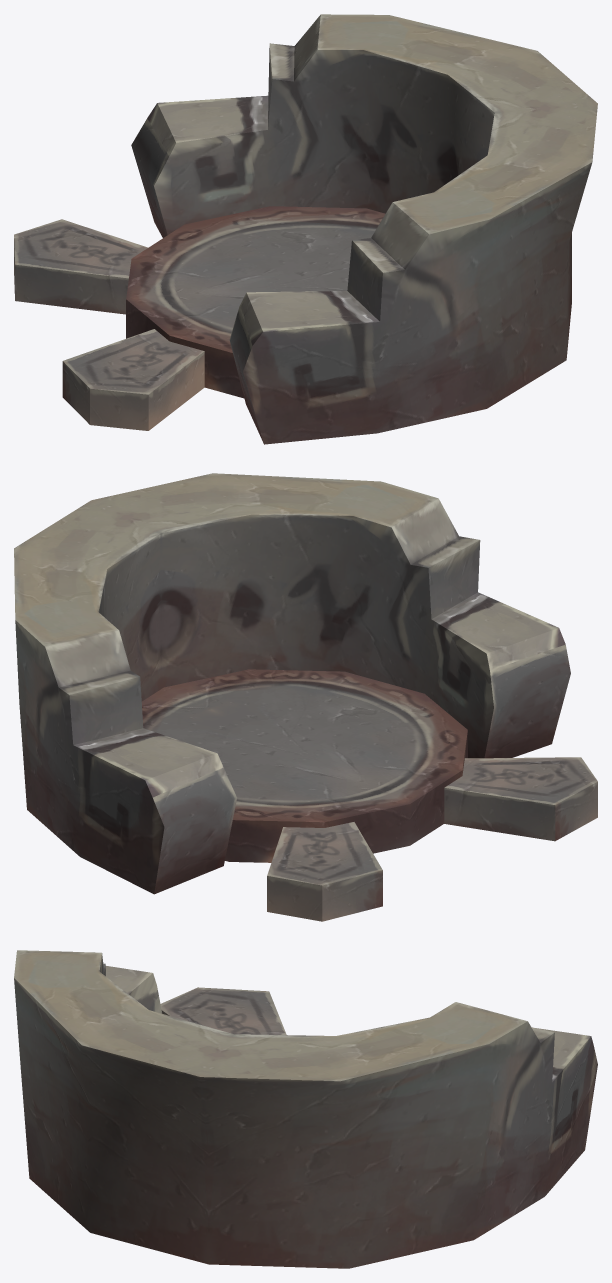
Rendered from Mofazuo001.FBX.
3 renders of one model, top to bottom at view 1: azimuth 30°, elevation 25°; view 2: azimuth 150°, elevation 25°; view 3: azimuth 270°, elevation 25°, orthographic.
Visible parts, largest first — view 1: mfzuo; view 2: mfzuo; view 3: mfzuo.
Part boxes in pixels (x1,y1,x2,y2): mfzuo: (14, 14, 597, 444); mfzuo: (14, 473, 597, 921); mfzuo: (14, 950, 597, 1268).
Bounding box in the file's own units: 1006 × 971 × 365.
Materials: 1 (1 with a texture image).
